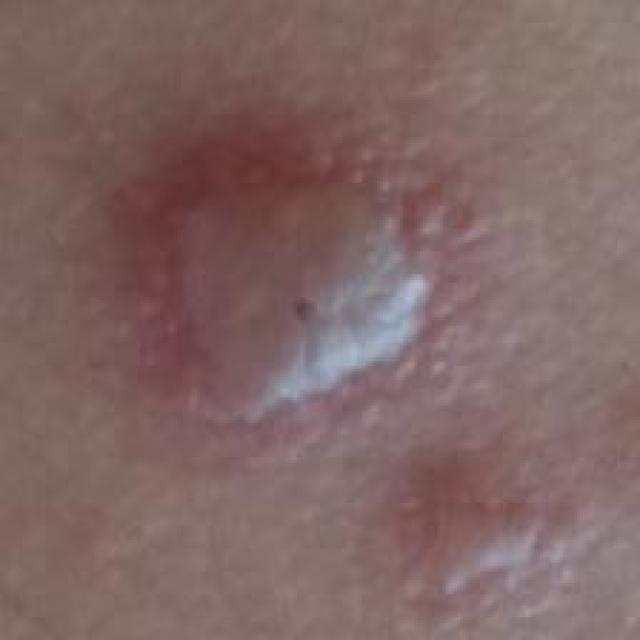others: (62, 4, 609, 640)
